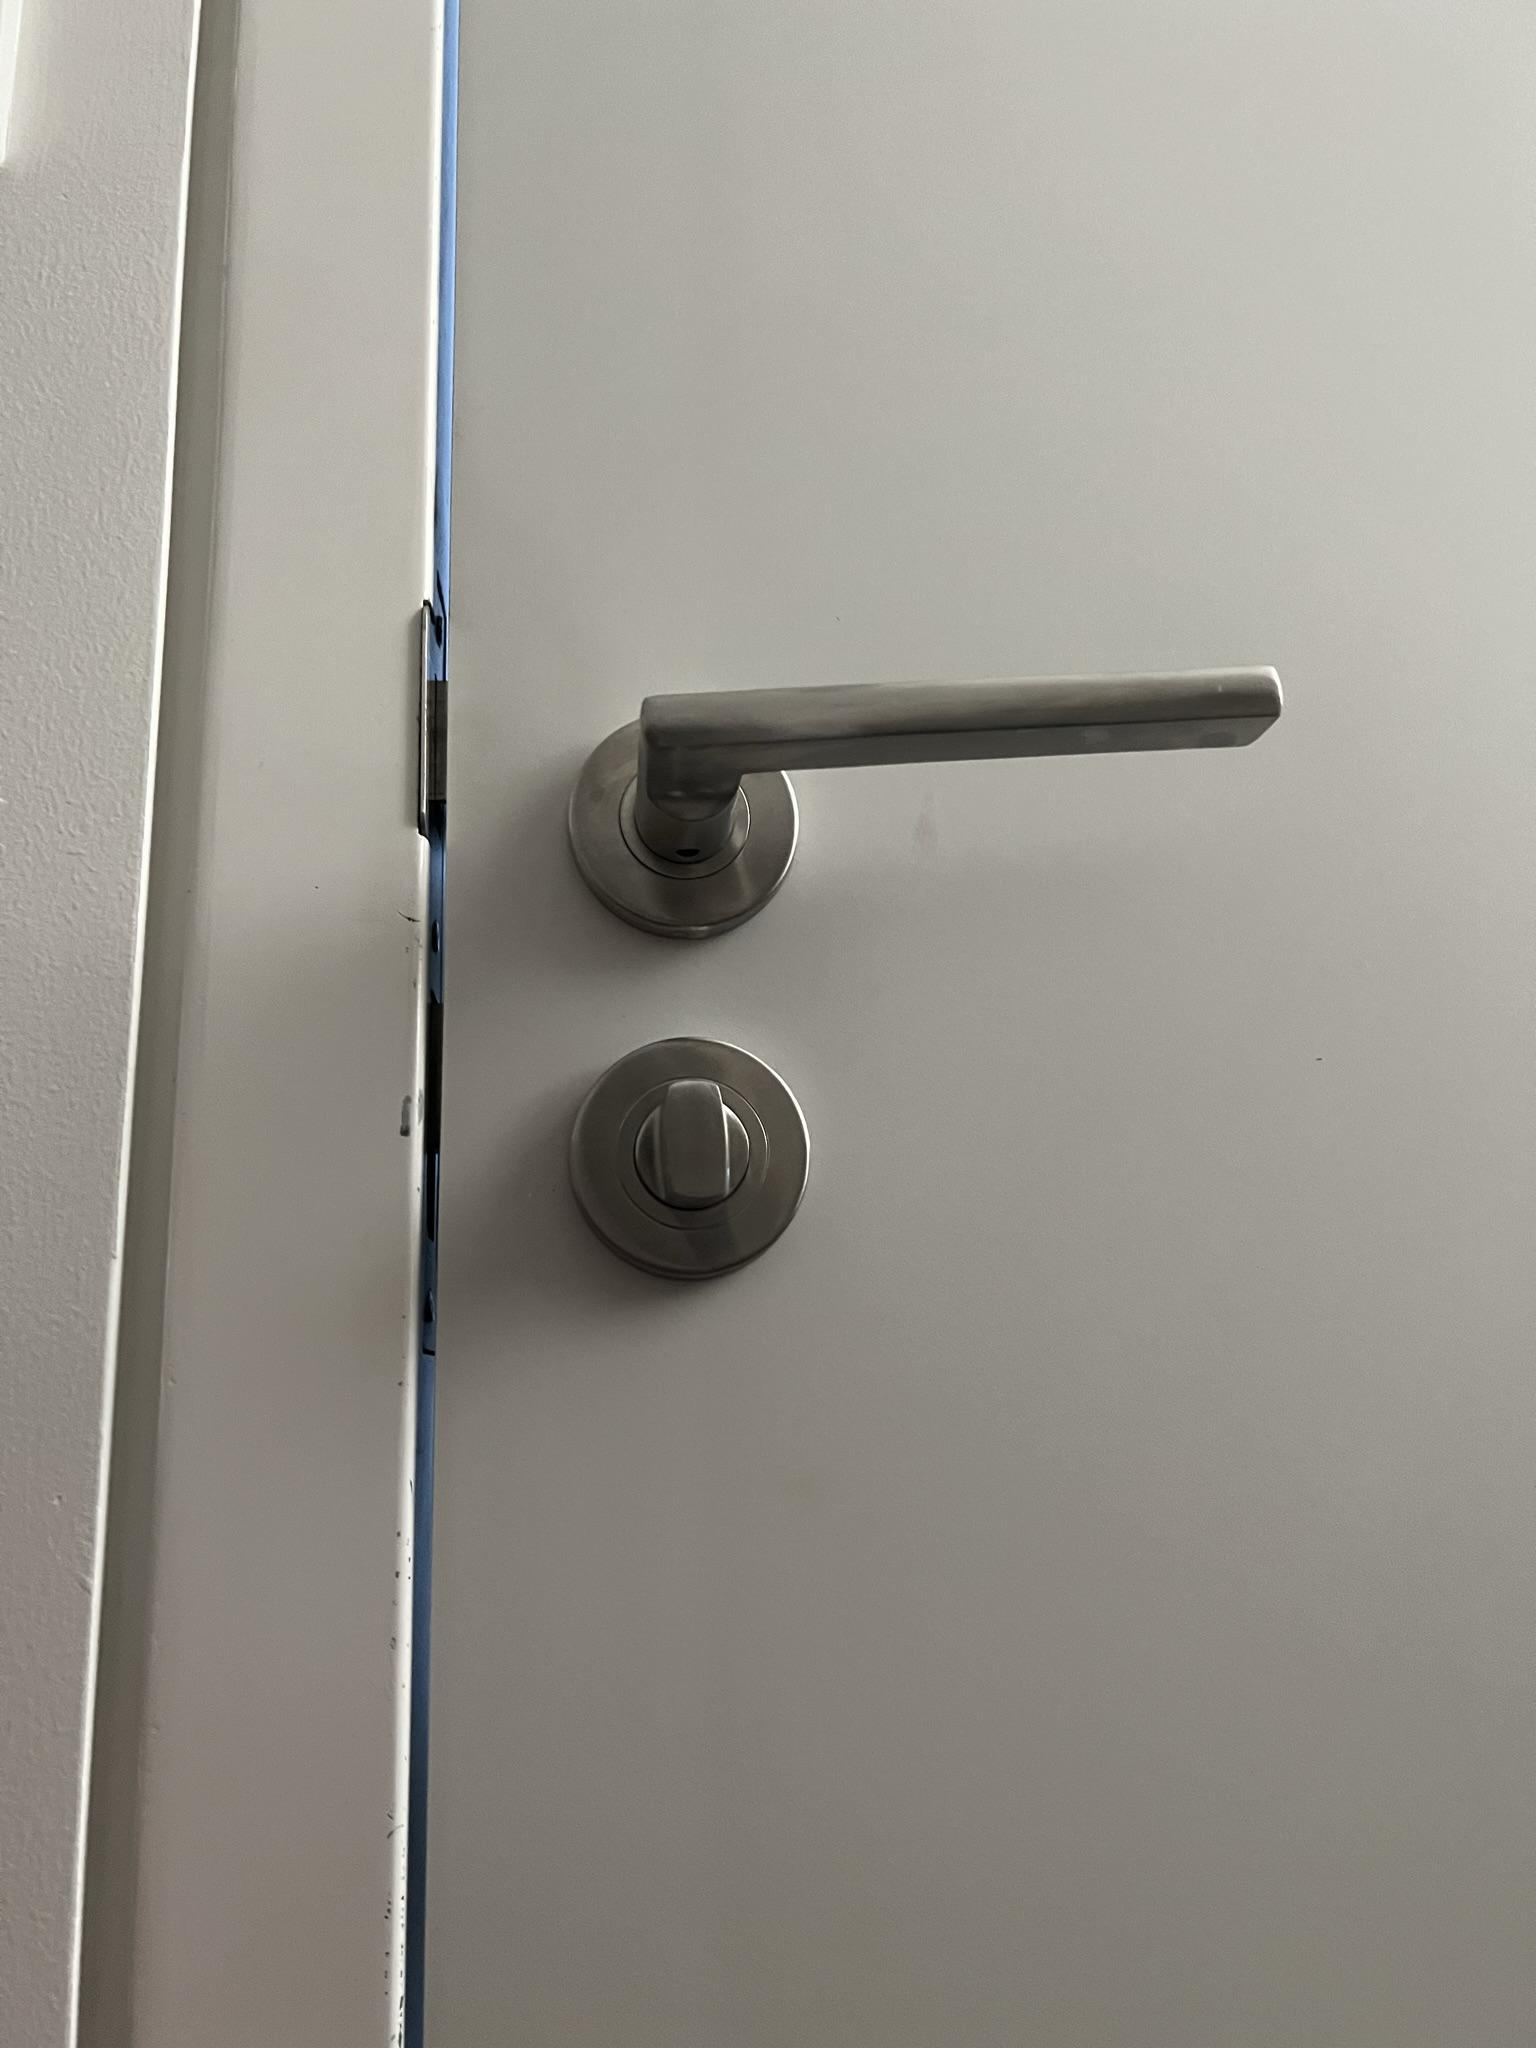handle: (542, 647, 1292, 1293)
